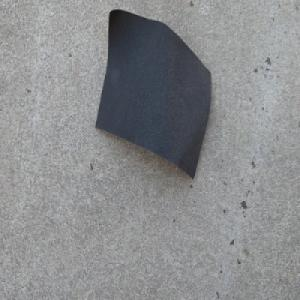PaintChip: (94, 7, 212, 180)
